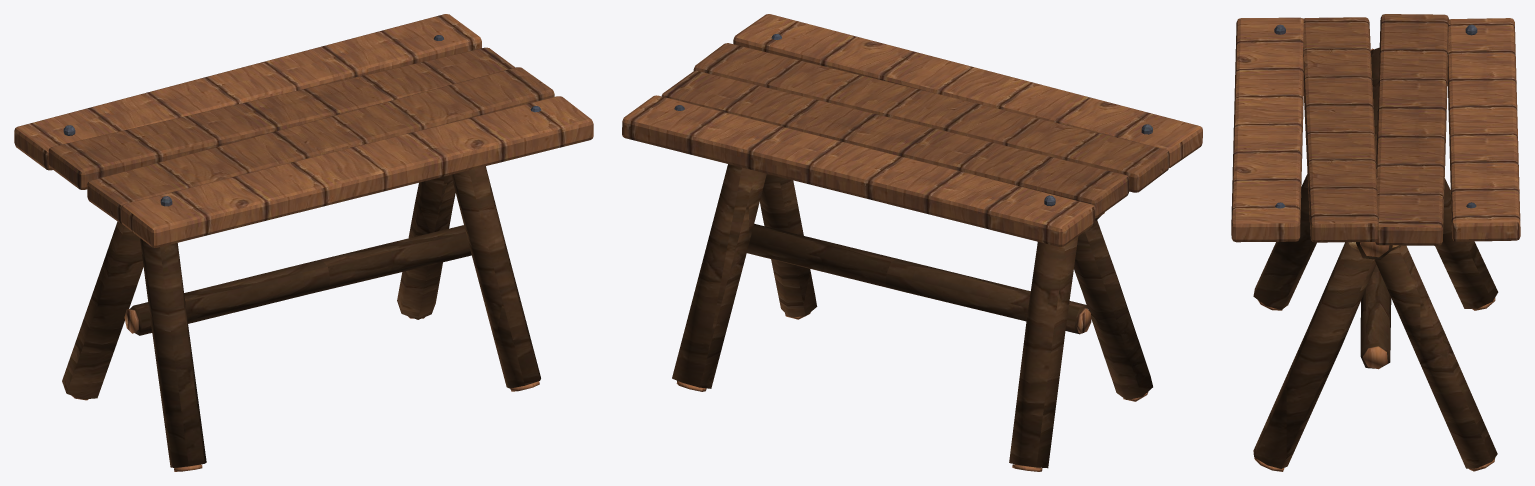
File: shack_table.glb
3 views of the same model, side by side, from view 1: azimuth 30°, elevation 25°; view 2: azimuth 150°, elevation 25°; view 3: azimuth 270°, elevation 25° (orthographic).
Visible parts, largest first — view 1: model; view 2: model; view 3: model.
Part boxes in pixels (<box>): model: <box>14,14,593,471</box>; model: <box>622,14,1202,471</box>; model: <box>1231,14,1520,471</box>.
Size of the model in its own units: 1.31 by 0.7927 by 0.7565.
Materials: 9 (9 with a texture image).
